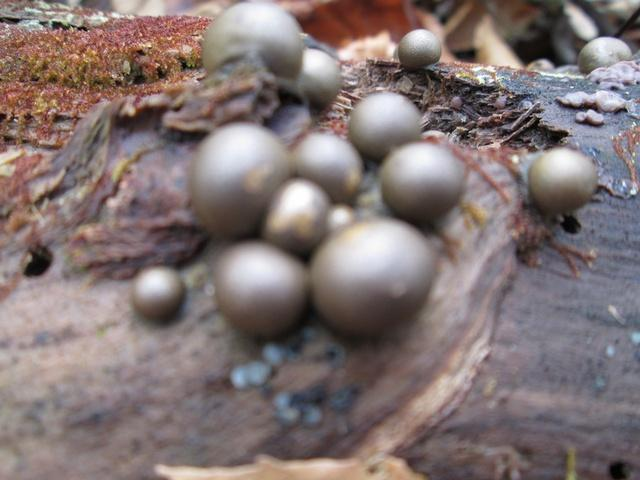Non-edible Mushroom: (185, 89, 467, 337), (310, 215, 437, 334), (186, 120, 290, 236), (212, 238, 307, 336), (200, 1, 306, 86), (378, 140, 465, 221), (525, 145, 599, 220), (347, 90, 422, 157), (128, 264, 185, 321), (576, 34, 632, 73), (395, 27, 442, 70)
